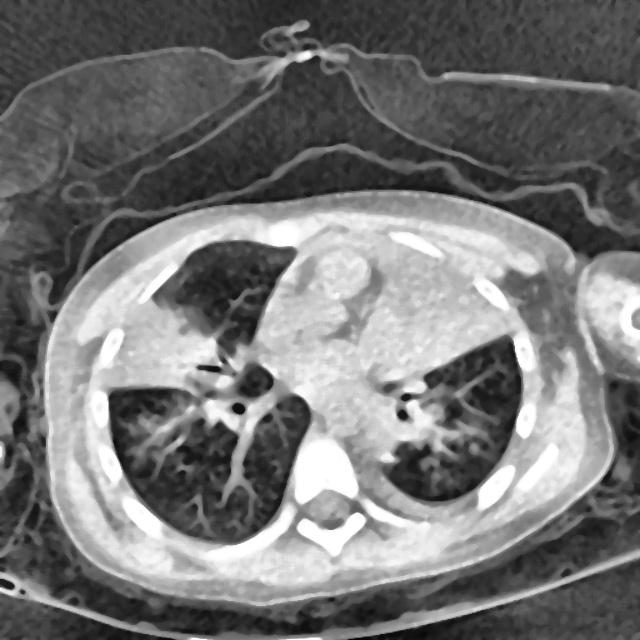covid: (41, 186, 631, 612)
